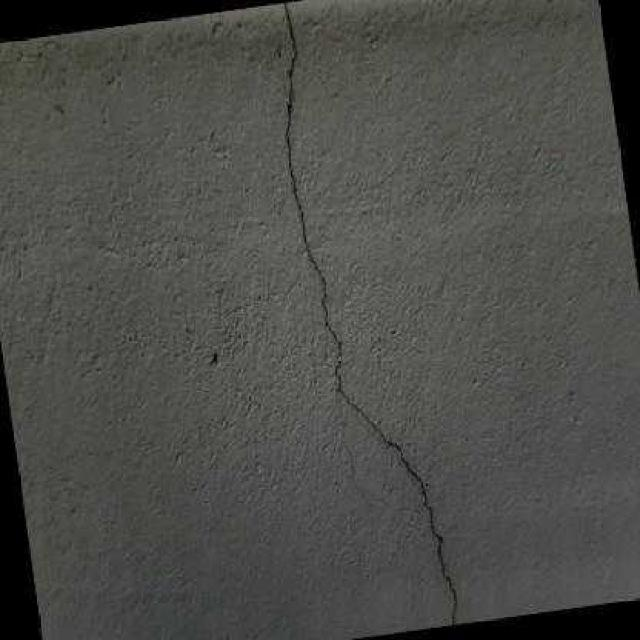D00: (282, 1, 458, 625)
